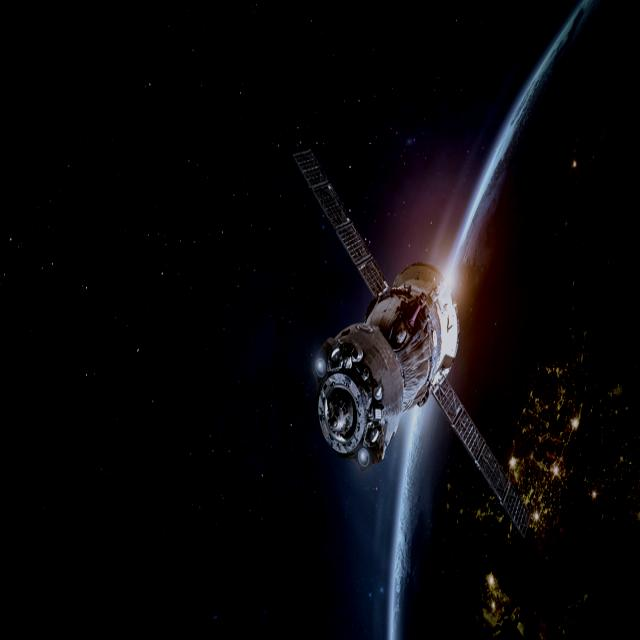medium_debris: (281, 116, 542, 553)
